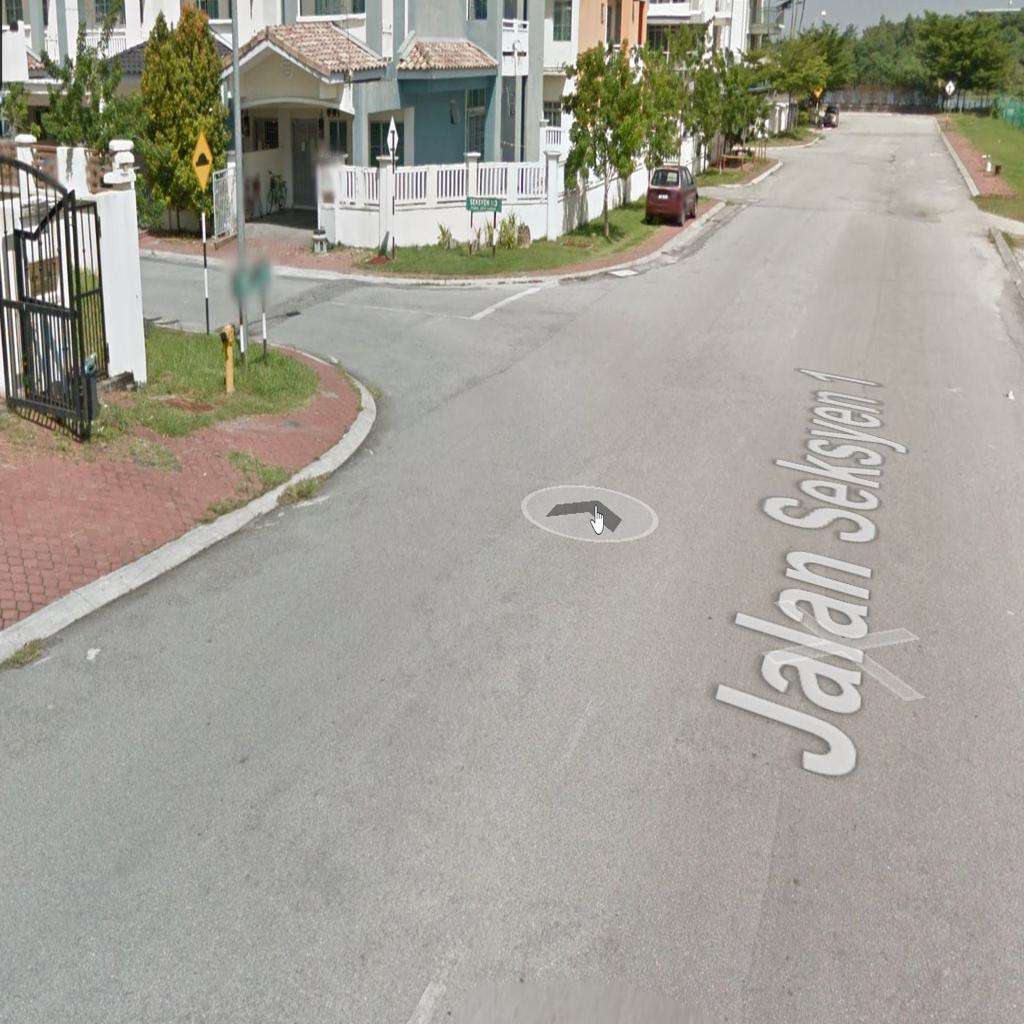Junction: (236, 241, 658, 462)
